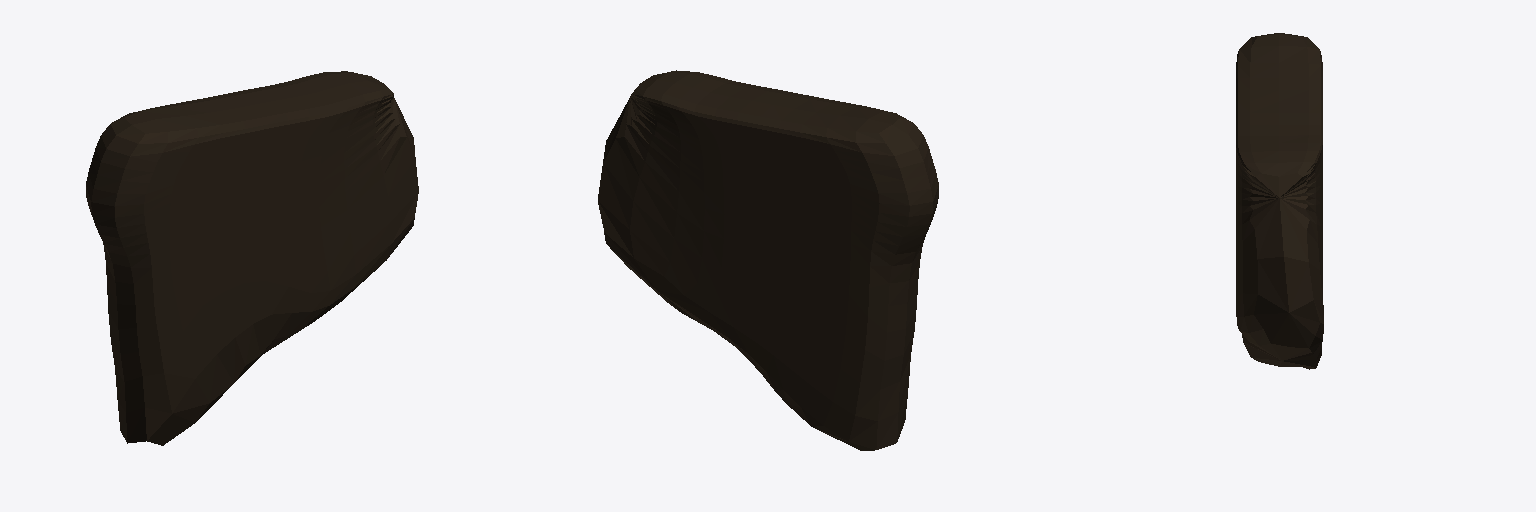
The model's file is glasses_11_temple_hinge_left.obj.
3 renders of one model, left to right at view 1: azimuth 30°, elevation 25°; view 2: azimuth 150°, elevation 25°; view 3: azimuth 270°, elevation 25°, orthographic.
Visible parts, largest first — view 1: Cube.009; view 2: Cube.009; view 3: Cube.009.
Boxes of the visible parts, x1=… form: Cube.009: x1=86, y1=71, x2=418, y2=445; Cube.009: x1=598, y1=70, x2=938, y2=450; Cube.009: x1=1236, y1=33, x2=1323, y2=369.
Bounding box in the file's own units: 0.0071 × 0.0067 × 0.0016.